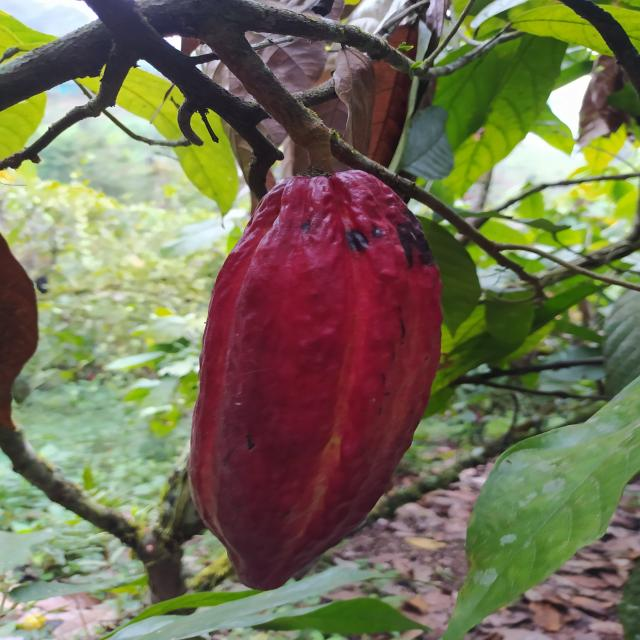Fitoftora: (188, 168, 447, 595)
